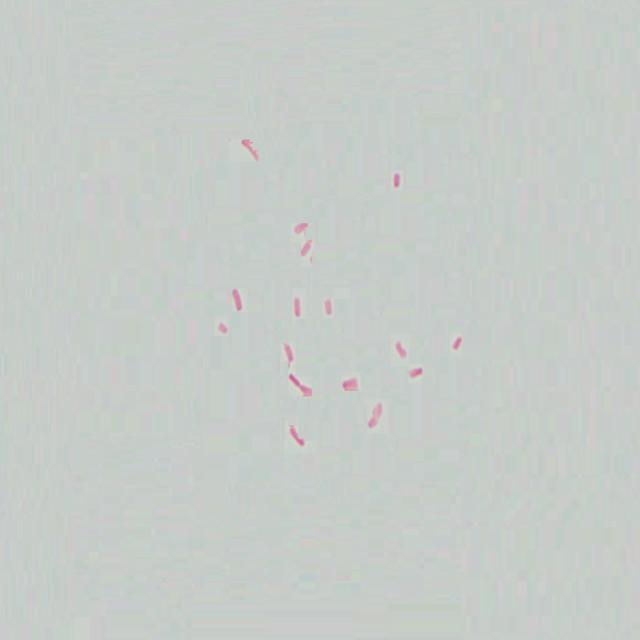E-coli: (288, 375, 315, 399), (367, 400, 385, 433), (236, 140, 262, 160), (287, 426, 308, 450), (298, 236, 317, 261), (232, 280, 245, 316), (448, 331, 466, 355), (319, 294, 335, 320), (407, 364, 425, 387), (340, 377, 363, 395), (387, 171, 407, 191), (283, 338, 297, 366), (395, 335, 408, 365), (293, 219, 316, 235), (292, 294, 305, 320), (216, 321, 229, 337)
